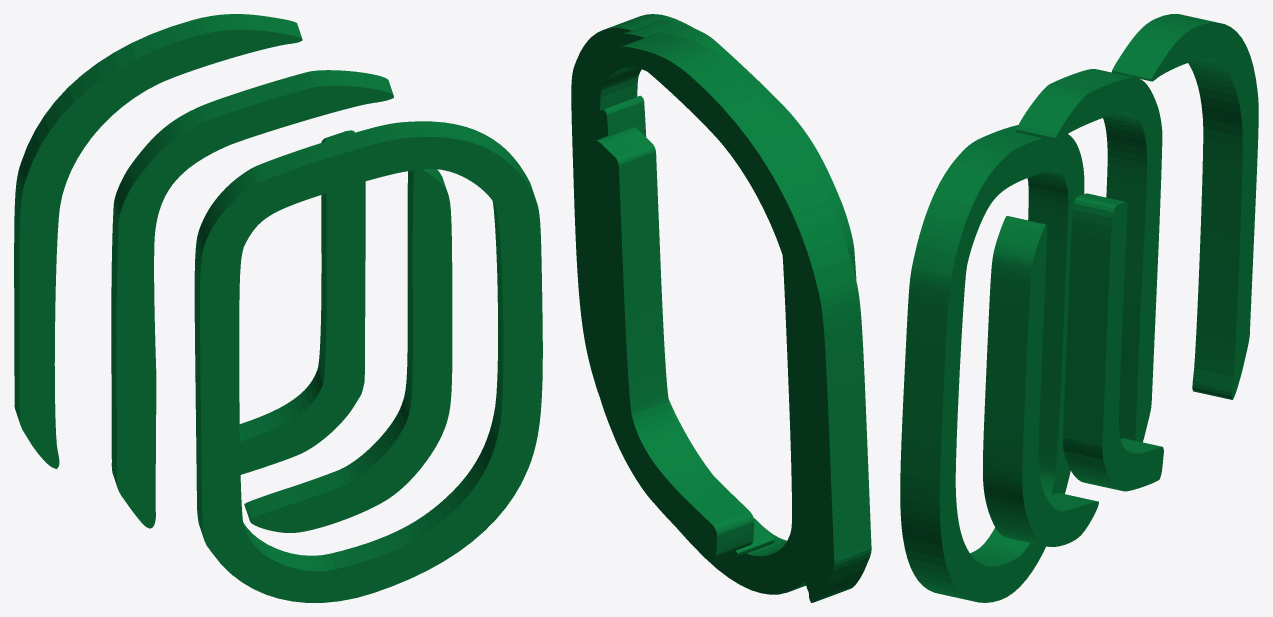
Rendered from zkp_geometry_clean.obj.
3 renders of one model, left to right at view 1: azimuth 30°, elevation 25°; view 2: azimuth 150°, elevation 25°; view 3: azimuth 270°, elevation 25°, orthographic. The views are drawn at different scales.
Visible parts, largest first — view 1: Curve.002, Curve.001, Curve, Curve.004, Curve.003; view 2: Curve, Curve.003, Curve.002, Curve.001, Curve.004; view 3: Curve.002, Curve, Curve.004, Curve.001, Curve.003.
Boxes of the visible parts, x1,y1,x2,y2 form: Curve.002: (194, 121, 542, 602); Curve.001: (111, 70, 393, 528); Curve: (14, 14, 302, 468); Curve.004: (244, 169, 452, 532); Curve.003: (239, 130, 365, 474); Curve: (619, 32, 871, 602); Curve.003: (592, 126, 754, 558); Curve.002: (571, 14, 806, 594); Curve.001: (620, 20, 856, 591); Curve.004: (583, 95, 774, 558); Curve.002: (900, 125, 1084, 602); Curve: (1111, 14, 1258, 399); Curve.004: (983, 216, 1098, 546); Curve.001: (1016, 69, 1162, 442); Curve.003: (1063, 193, 1163, 491).
Size of the model in its own units: 2.04 by 2.6 by 1.56.
